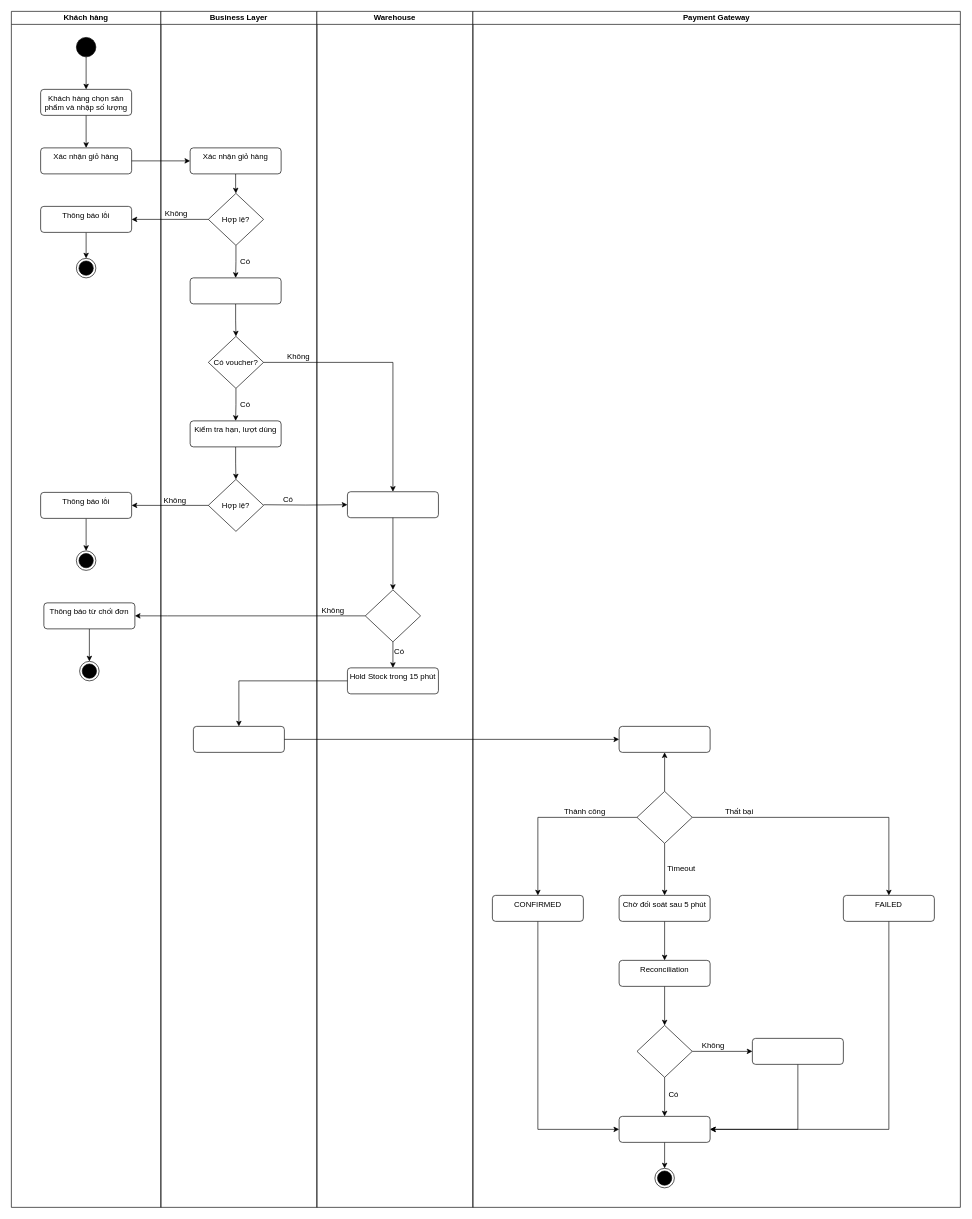
Image size: 972x1219. Some labels were removed from this diagram. The centre of each missing label's shape, as x and y in pixels:
"Cập nhật trạng thái" goes at (664,1129).
"Kiểm tra tồn kho" goes at (392,504).
"Kiểm tra voucher" goes at (235,290).
"Release Stock" goes at (797,1051).
"Thanh toán?" goes at (664,817).
"Thành công?" goes at (664,1051).
"Tạo đơn PENDING" goes at (238,739).
"Xử lý thanh toán" goes at (664,739).
"Đủ hàng?" goes at (393,615).
